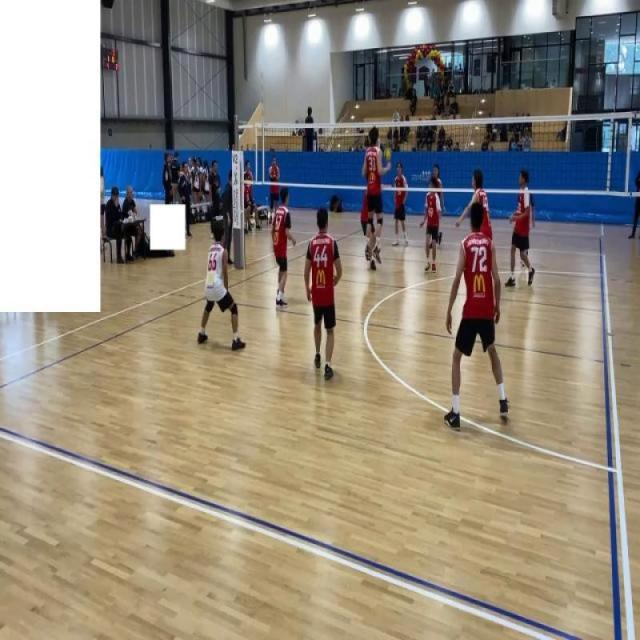volleyball: (383, 146, 392, 164)
